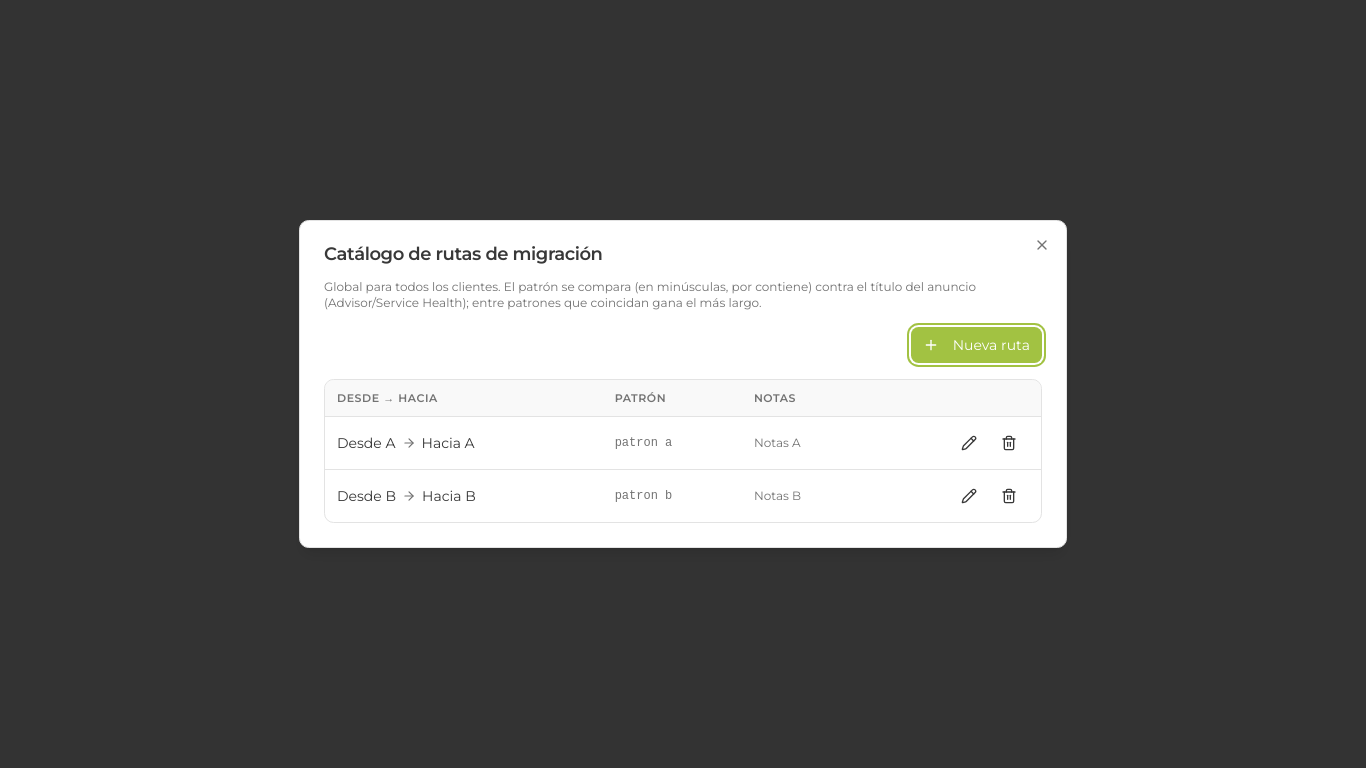
Test: editar B sin cerrar el form de A remonta el form y muestra los valores de B (no arrastra los de A)
The image size is (1366, 768).
Click the button named "Editar a-clave".
click(969, 443)  # box [949,425,989,461]
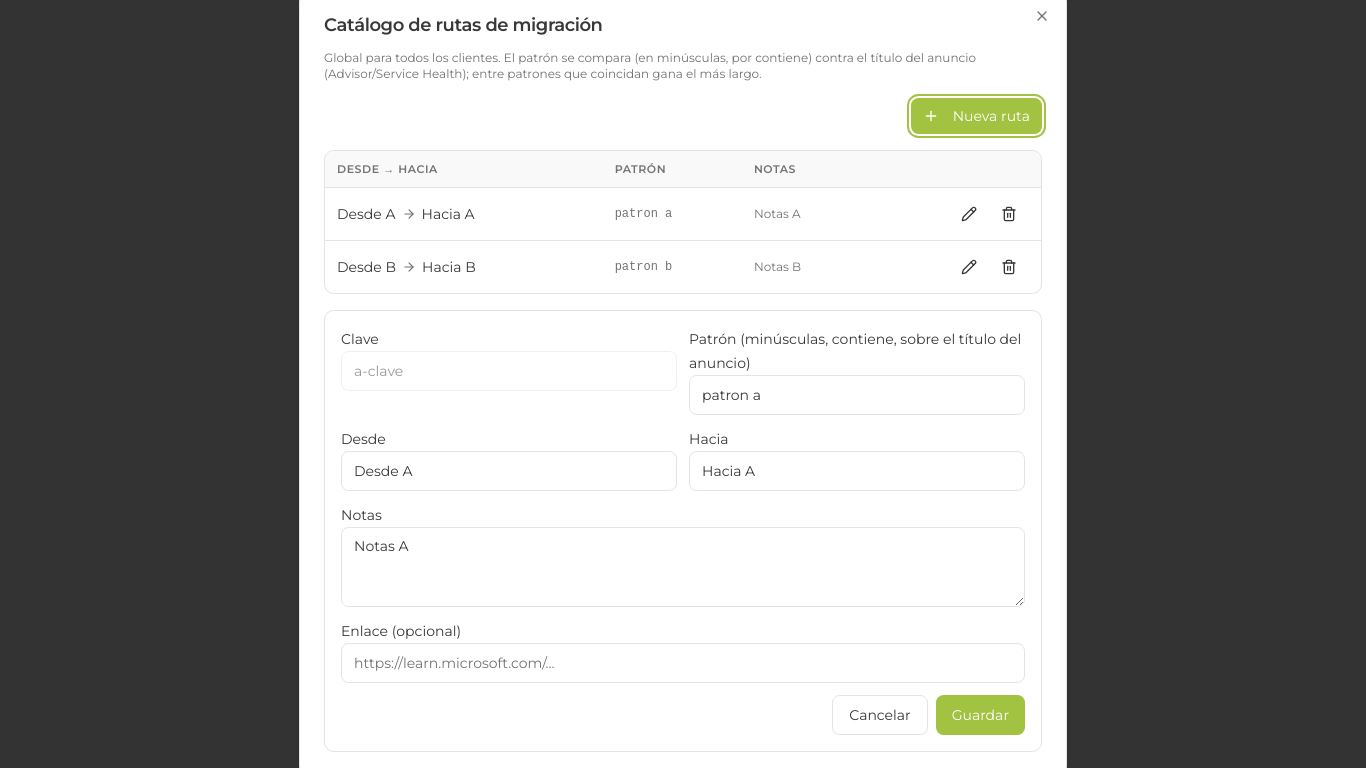
Check: the field labelled "Desde" holds "Desde A", box [341,451,677,491]
Check: the field labelled "Clave" holds "a-clave", box [341,351,677,391]
Click the button named "Editar b-clave".
click(969, 267)  # box [949,249,989,285]
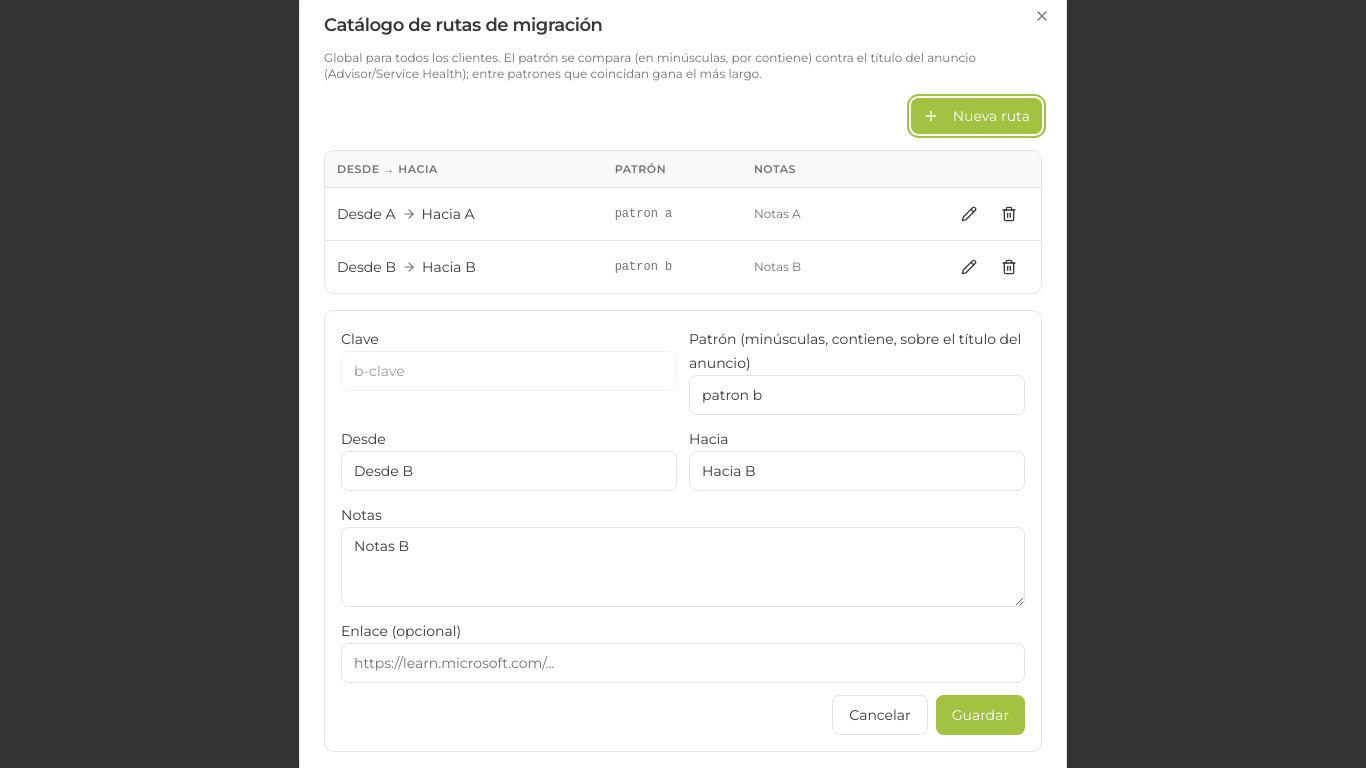
Check: the field labelled "Desde" holds "Desde B", box [341,451,677,491]
Check: the field labelled "Clave" holds "b-clave", box [341,351,677,391]
